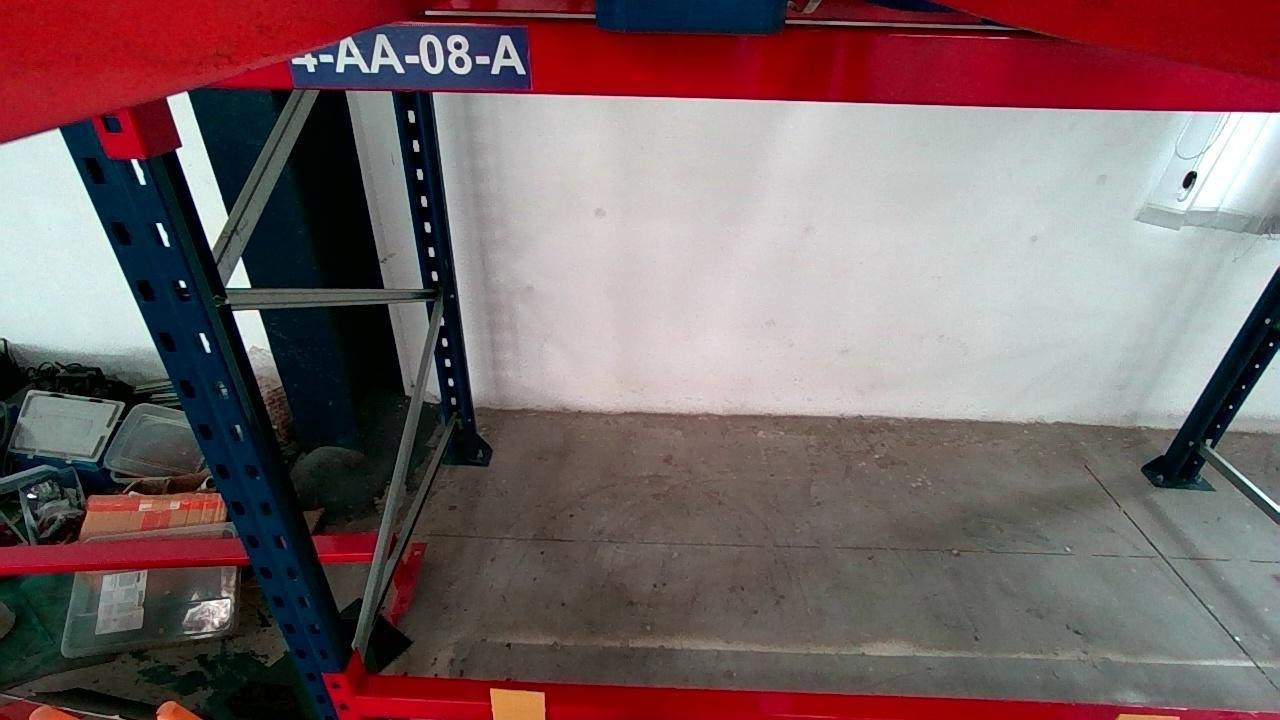h_rack: (186, 18, 1280, 109)
